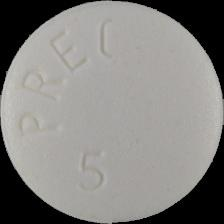43353-951: (0, 0, 224, 224)
